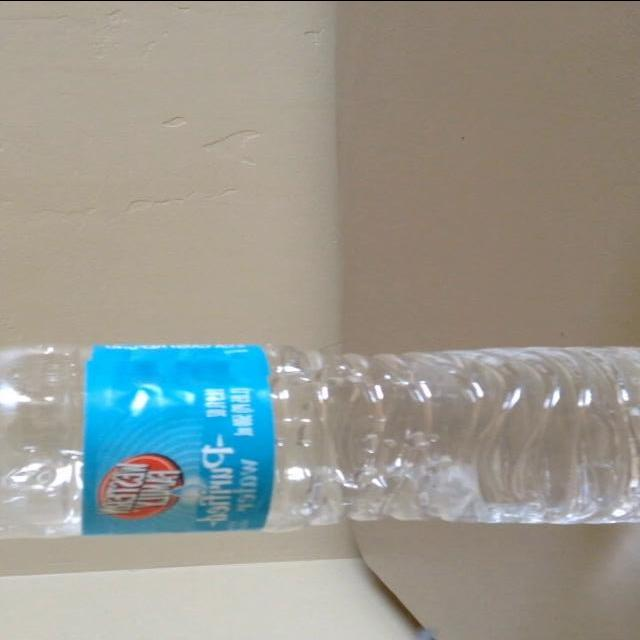label: (83, 346, 273, 536)
not-crumbled: (5, 342, 640, 527)
